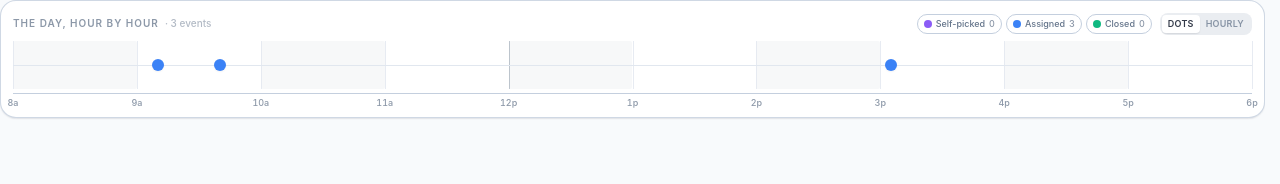
Scenario: DayEventStrip (rendered invariant) › Hourly view buckets counts per hour (counts, never durations) and keeps the sum
Step 1. Click the button "Hourly" → point(1225, 24), box x1=1200 y1=15 x2=1250 y2=32
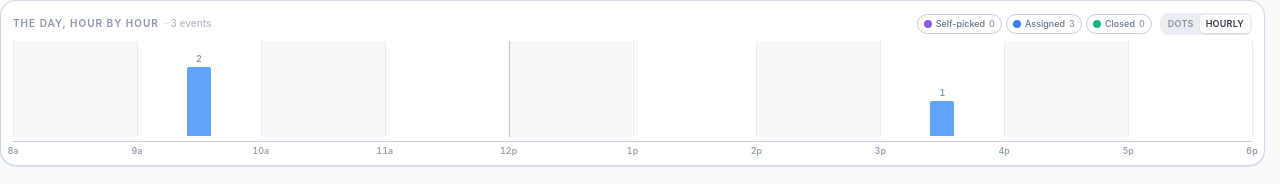
Expected: the element named "Hourly event histogram" is shown, x1=137 y1=40 x2=1004 y2=136
Expected: the button named "9a to 10a: 2 assigned" is shown, x1=137 y1=40 x2=261 y2=136
Expected: the button named "3p to 4p: 1 assigned" is shown, x1=880 y1=40 x2=1004 y2=136
